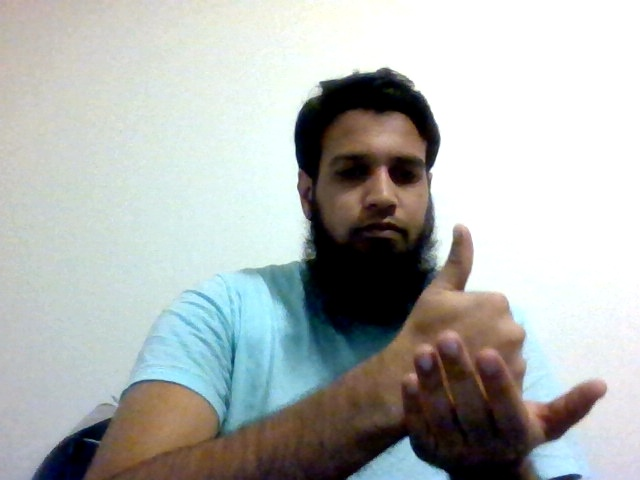help: (385, 222, 609, 480)
